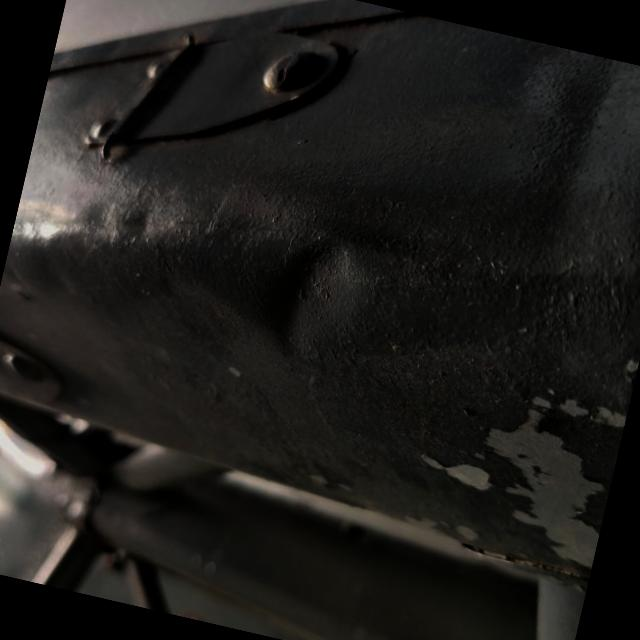dent: (232, 208, 386, 388)
paint-off: (378, 318, 638, 575)
